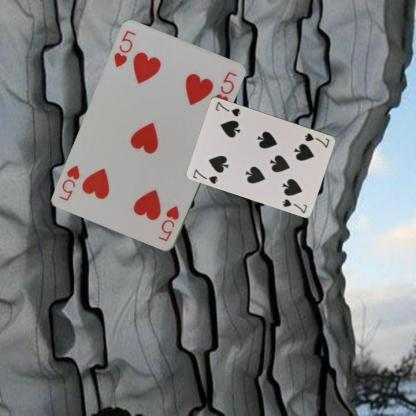5h: (111, 28, 137, 69), (156, 204, 181, 244)
7s: (191, 166, 220, 185), (302, 131, 331, 149)
